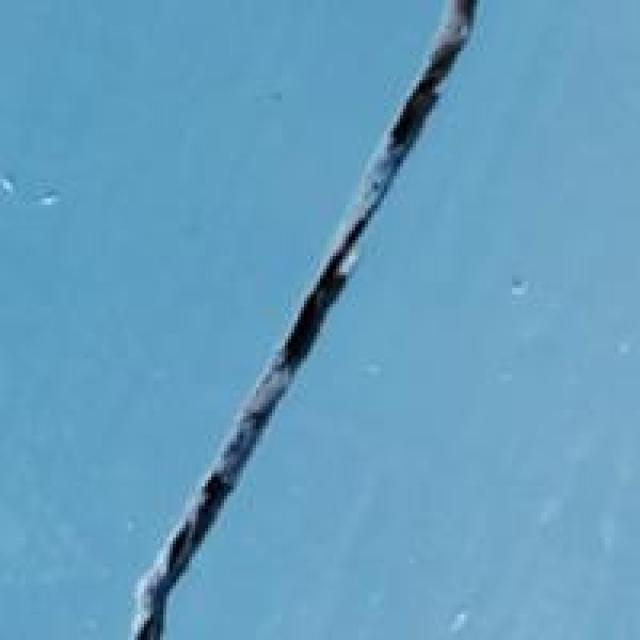Crack: (86, 0, 512, 637)
